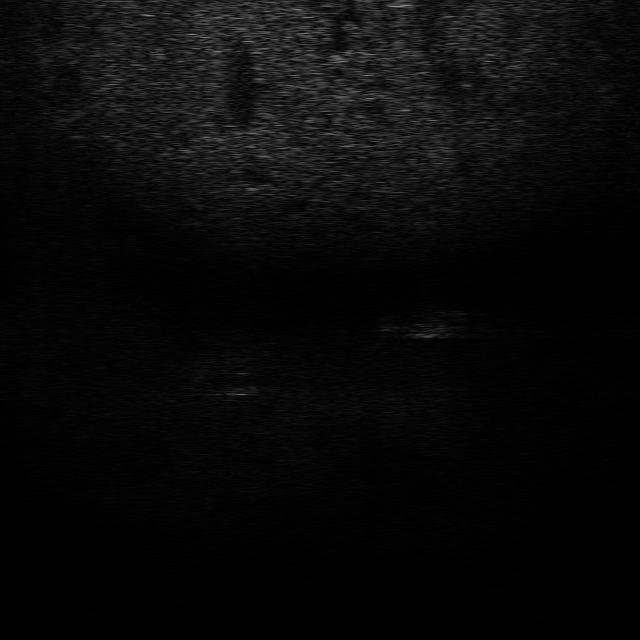ball: (215, 367, 263, 398)
human body: (362, 307, 472, 348)
